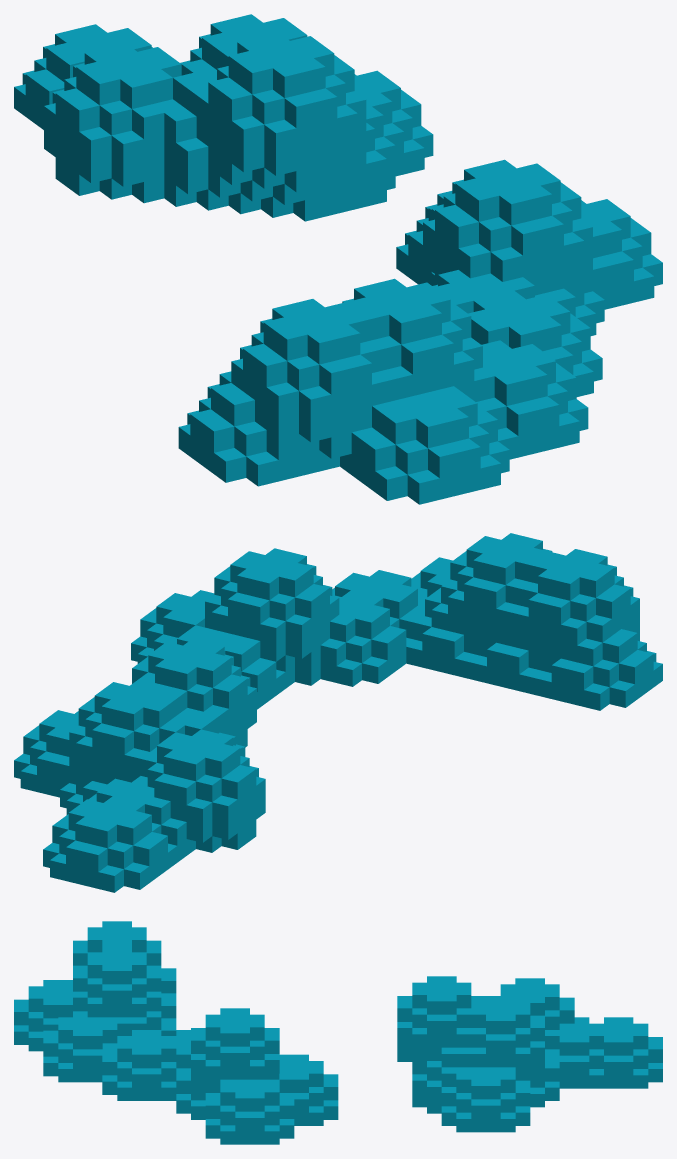
Rendered from IceBerries-4.obj.
The picture shows the model from 3 angles, top to bottom: view 1: azimuth 30°, elevation 25°; view 2: azimuth 150°, elevation 25°; view 3: azimuth 270°, elevation 25°; orthographic projection. The views are drawn at different scales.
Size of the model in its own units: 2.6 by 0.7 by 4.4.
1 material, 1 textured.
